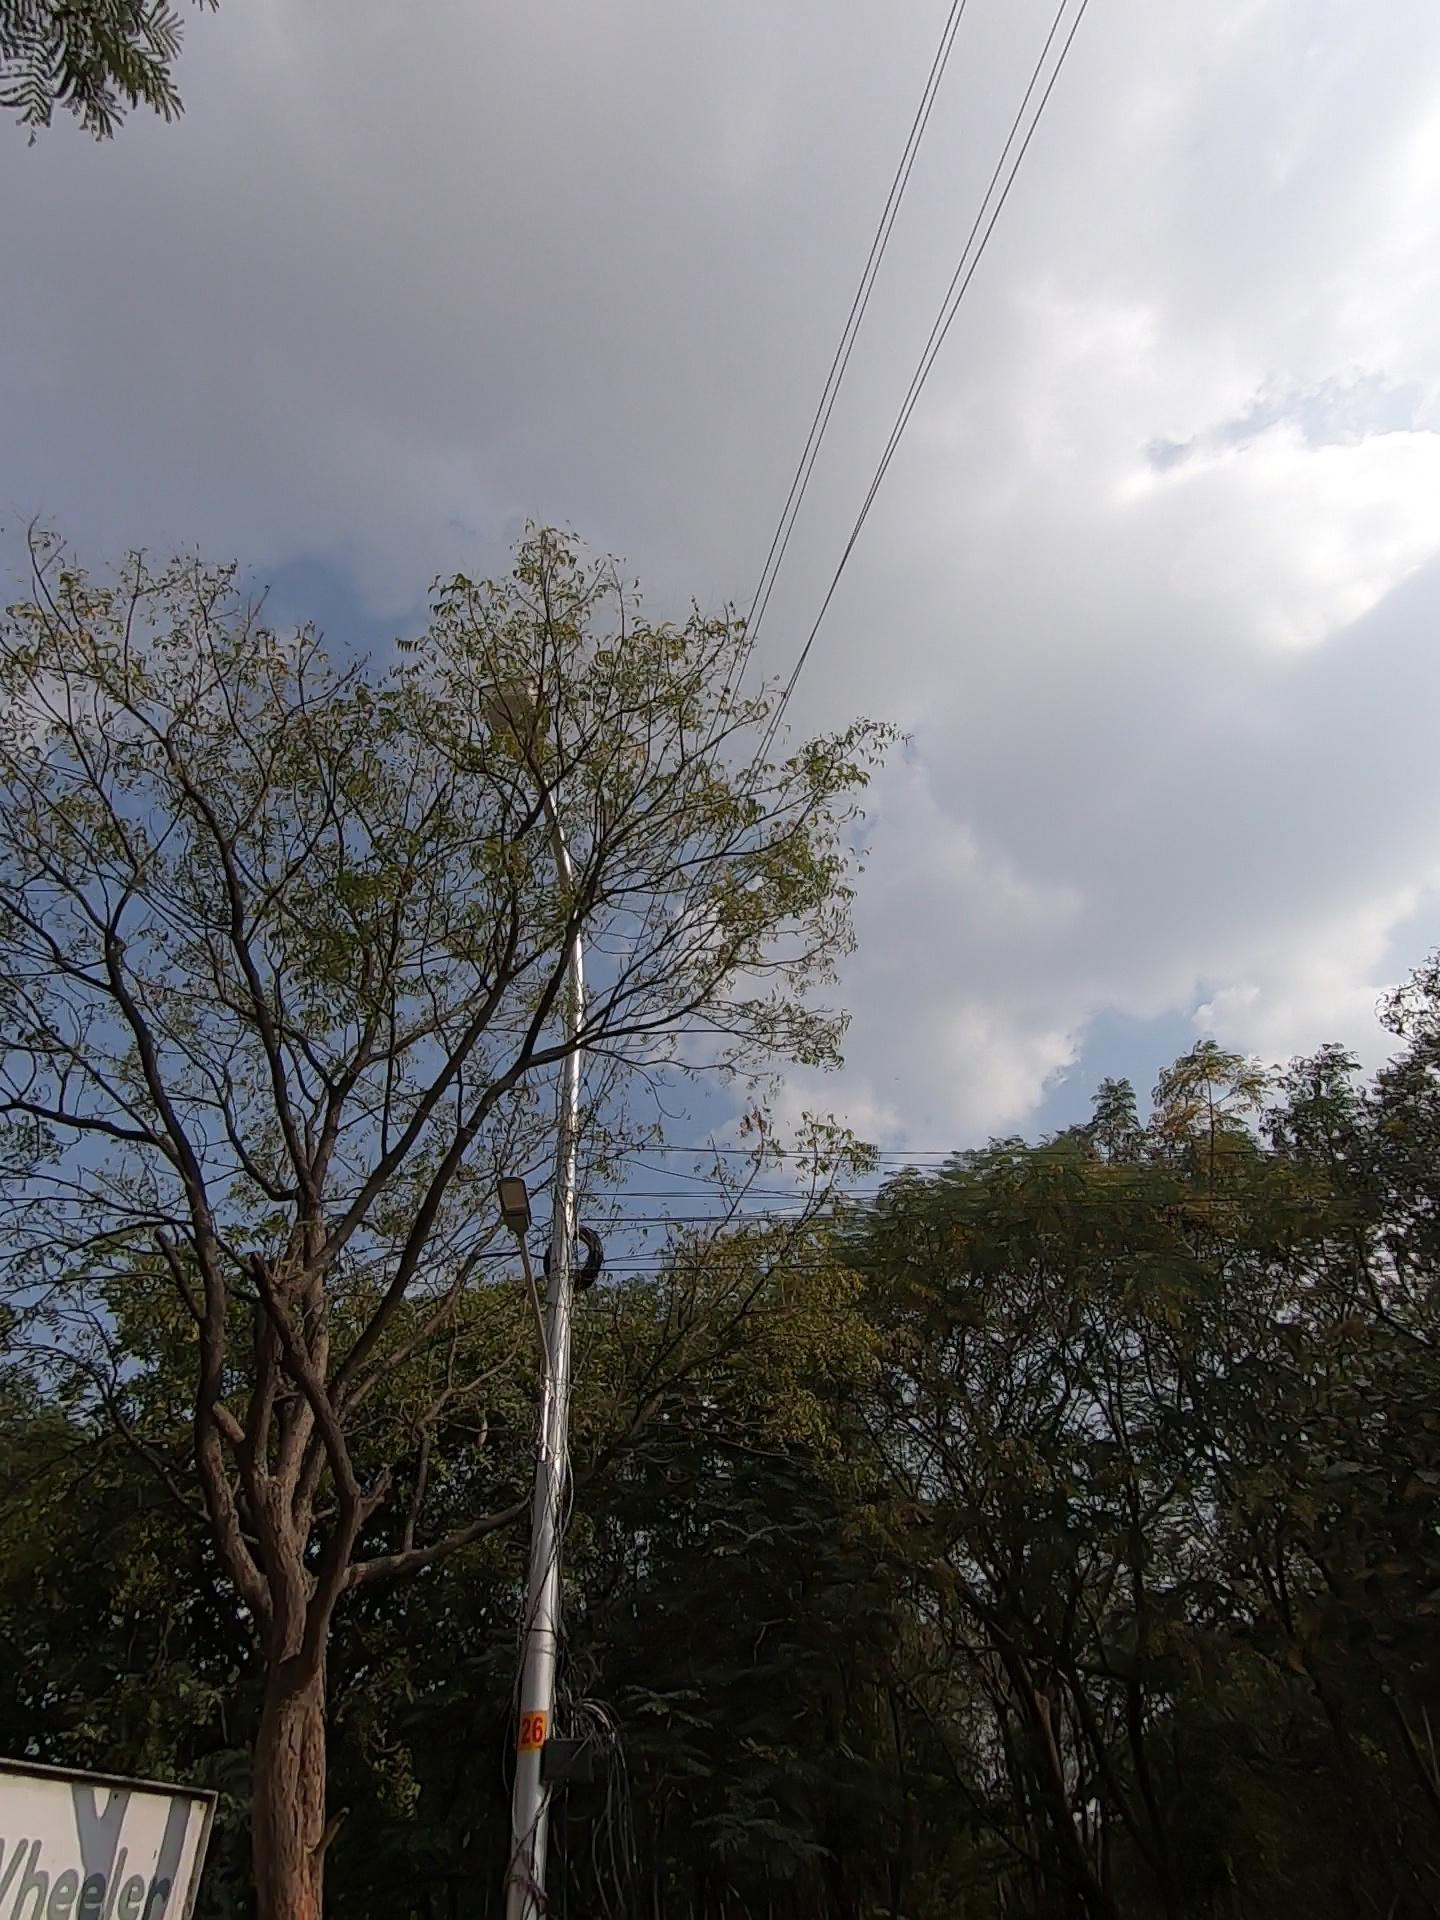off: (410, 636, 759, 1128)
